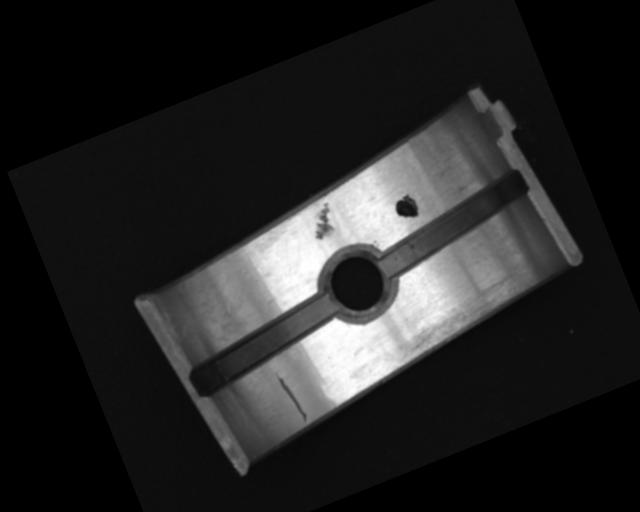blot: (391, 191, 421, 223)
bruise: (305, 200, 341, 241)
gap: (367, 168, 540, 281), (181, 290, 349, 399)
hole: (310, 237, 405, 332)
nick: (273, 365, 310, 428)
scratch: (377, 270, 536, 371)
